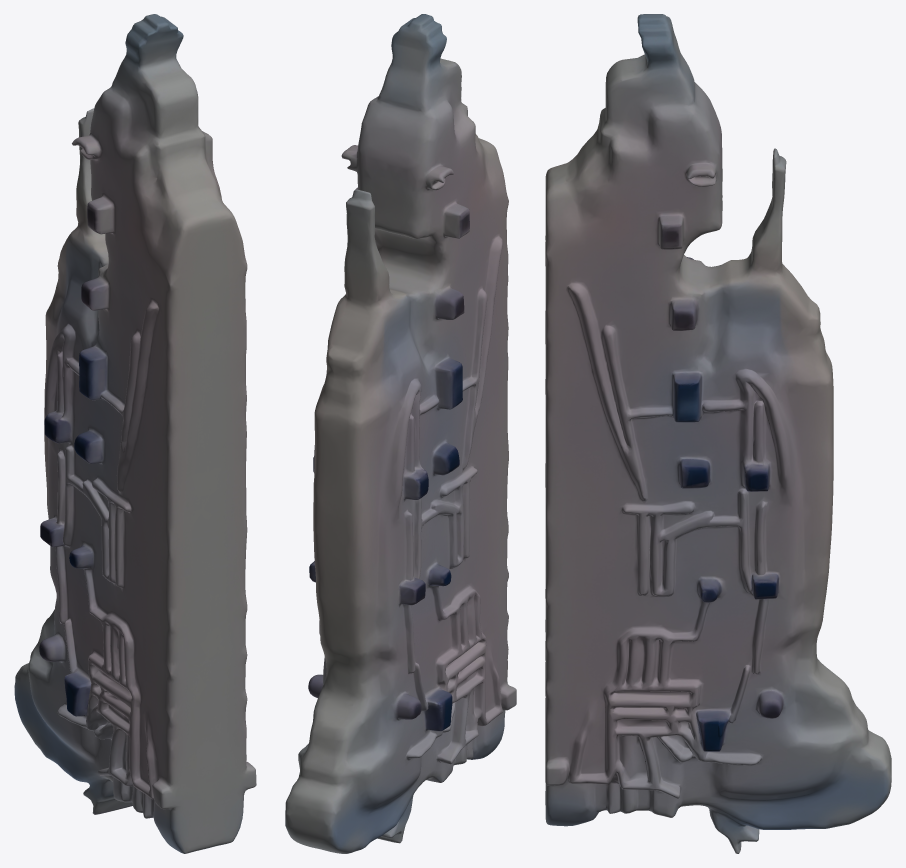
Rendered from zhangqian-raw.glb.
3 renders of one model, left to right at view 1: azimuth 30°, elevation 25°; view 2: azimuth 150°, elevation 25°; view 3: azimuth 270°, elevation 25°, orthographic. The views are drawn at different scales.
Parts seen in each view (by area): view 1: tripo_node_a44a3a5c-c677-4f10-97e8-fdf5b0b890ca; view 2: tripo_node_a44a3a5c-c677-4f10-97e8-fdf5b0b890ca; view 3: tripo_node_a44a3a5c-c677-4f10-97e8-fdf5b0b890ca.
Boxes of the visible parts, left/top/right/bottom form: tripo_node_a44a3a5c-c677-4f10-97e8-fdf5b0b890ca: left=14, top=14, right=256, bottom=853; tripo_node_a44a3a5c-c677-4f10-97e8-fdf5b0b890ca: left=285, top=14, right=516, bottom=853; tripo_node_a44a3a5c-c677-4f10-97e8-fdf5b0b890ca: left=545, top=14, right=891, bottom=853.
Bounding box in the file's own units: 0.1491 × 1 × 0.3789.
1 material, 1 textured.
